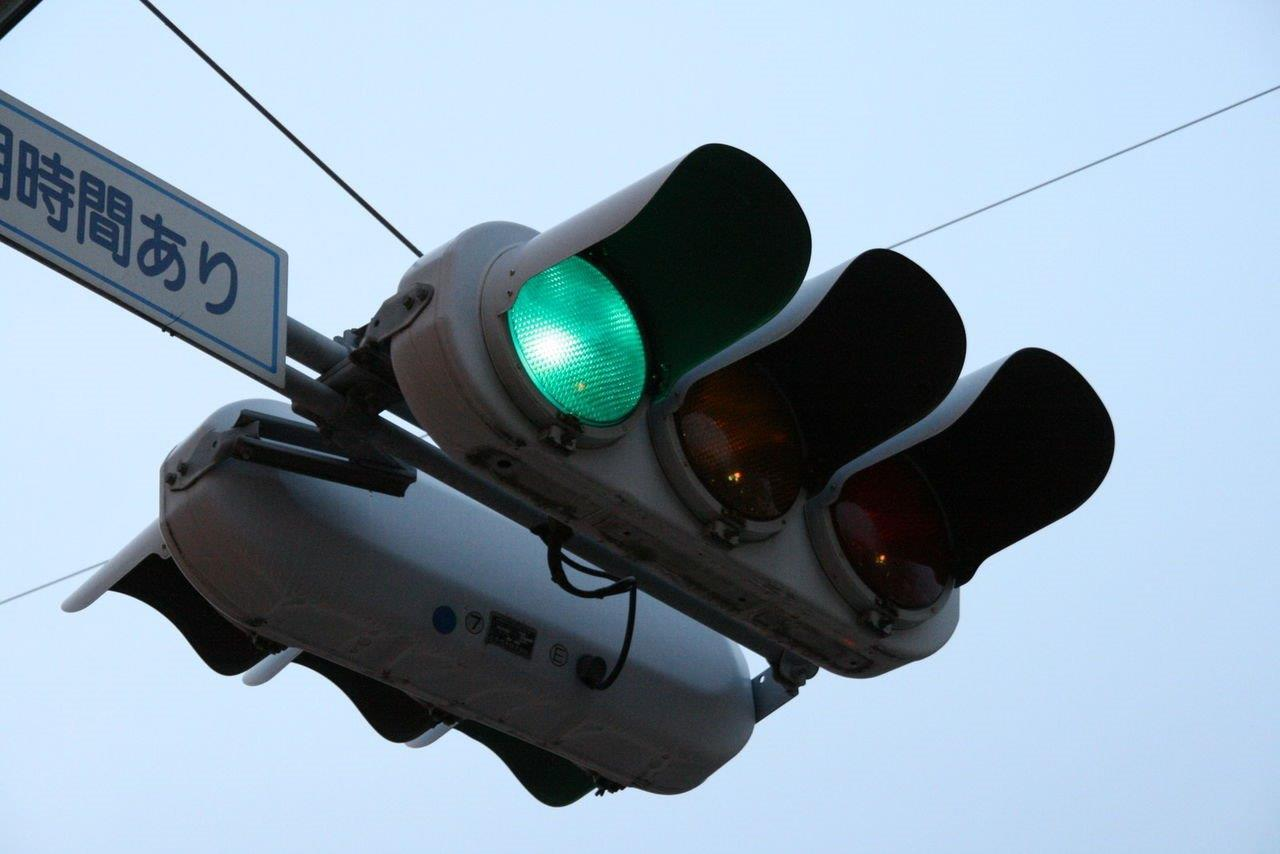cars: (441, 140, 1112, 660)
